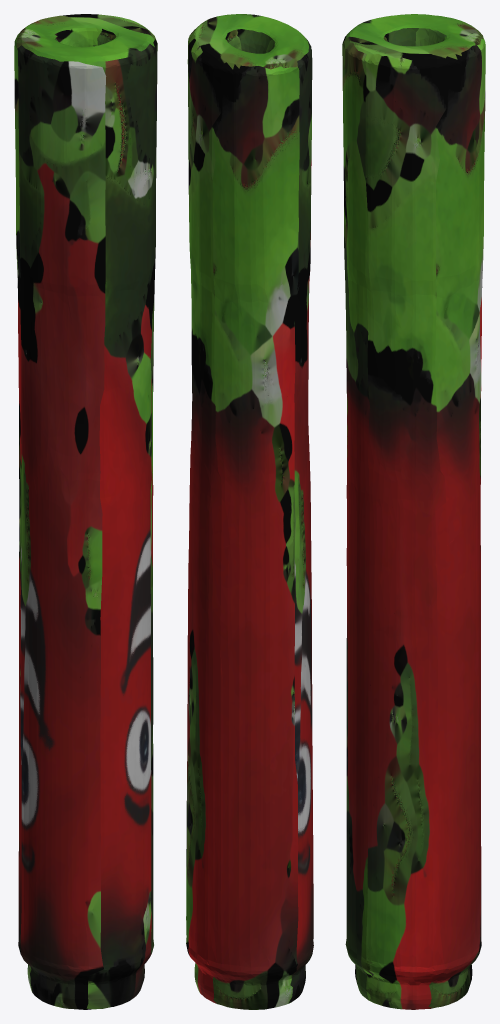
Rendered from sample.obj.
3 views of the same model, side by side, from view 1: azimuth 90°, elevation 25°; view 2: azimuth 210°, elevation 25°; view 3: azimuth 270°, elevation 25° (orthographic).
Size of the model in its own units: 0.0163 by 0.135 by 0.0184.
